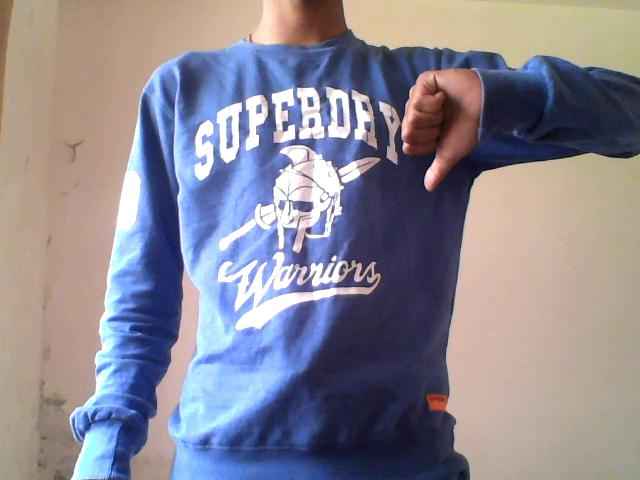thumbs-down: (362, 57, 528, 195)
